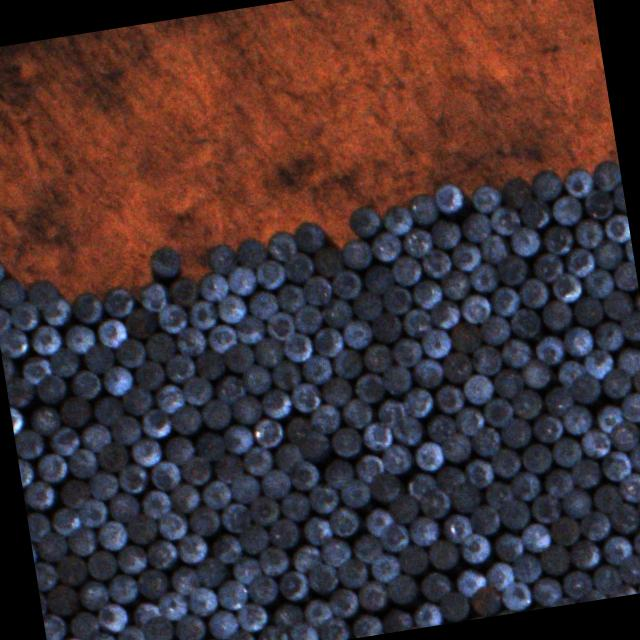tool: (362, 379, 418, 432), (480, 516, 532, 570), (352, 250, 403, 300), (84, 384, 132, 436), (474, 468, 524, 514), (274, 401, 320, 446), (43, 580, 80, 618), (430, 378, 467, 416), (146, 243, 184, 280), (424, 536, 462, 572), (158, 432, 196, 468), (44, 422, 82, 458), (122, 304, 158, 342), (17, 351, 54, 387), (401, 466, 438, 502), (61, 320, 98, 356), (292, 217, 328, 254), (94, 439, 132, 474), (556, 485, 594, 520), (489, 364, 527, 399), (184, 584, 220, 620), (406, 512, 442, 548), (438, 508, 474, 544), (114, 540, 150, 576), (216, 500, 252, 536), (106, 488, 142, 524), (528, 410, 564, 446), (440, 349, 476, 385), (25, 402, 61, 438), (380, 281, 416, 317), (154, 300, 190, 336), (590, 317, 626, 353), (449, 318, 485, 354), (461, 452, 496, 489), (203, 322, 240, 357), (539, 222, 576, 257), (529, 166, 564, 203), (368, 226, 402, 264), (492, 253, 530, 287), (497, 174, 535, 208), (34, 530, 70, 565), (203, 605, 239, 640), (600, 532, 635, 568), (186, 502, 221, 538), (328, 423, 364, 458), (592, 402, 628, 437), (480, 394, 515, 430), (108, 411, 143, 447), (56, 394, 92, 429), (268, 357, 304, 392), (112, 335, 148, 370), (346, 202, 381, 238), (431, 178, 466, 214), (449, 238, 484, 274), (560, 164, 595, 200), (26, 276, 63, 310), (408, 190, 442, 227), (105, 570, 138, 608), (29, 322, 64, 357), (418, 568, 453, 603), (250, 413, 285, 448), (599, 366, 634, 401), (100, 362, 135, 397), (251, 333, 286, 368), (311, 324, 346, 359), (427, 296, 462, 331), (143, 330, 178, 365), (173, 324, 208, 359), (55, 552, 89, 588), (34, 452, 70, 486), (468, 584, 504, 618), (244, 574, 280, 608), (76, 577, 110, 613), (134, 566, 170, 600), (467, 502, 501, 538), (144, 536, 178, 572), (208, 530, 244, 564), (123, 512, 159, 546), (116, 460, 150, 496), (296, 429, 332, 463), (390, 414, 426, 448), (422, 410, 458, 444), (338, 396, 374, 430), (526, 492, 562, 526), (548, 434, 584, 468), (558, 402, 594, 436), (318, 374, 354, 408), (299, 352, 335, 386), (389, 334, 425, 368), (130, 358, 166, 392), (46, 345, 82, 379), (348, 288, 384, 322), (225, 262, 259, 298), (560, 322, 594, 358), (538, 297, 574, 331), (570, 294, 606, 328), (561, 245, 597, 279), (458, 208, 492, 244), (39, 294, 74, 328), (354, 578, 389, 612), (156, 588, 190, 623), (276, 567, 310, 602), (457, 531, 491, 566), (267, 515, 302, 549), (300, 512, 334, 547), (278, 489, 312, 524), (337, 476, 372, 510), (368, 469, 402, 504), (351, 450, 386, 484), (86, 467, 120, 502), (147, 458, 182, 492), (241, 444, 276, 478), (128, 434, 163, 468), (192, 428, 226, 463), (496, 497, 531, 531), (518, 440, 553, 474), (601, 288, 635, 323), (582, 187, 616, 222), (78, 419, 112, 454), (138, 406, 172, 441), (169, 402, 204, 436), (230, 392, 265, 426), (351, 370, 386, 404), (180, 373, 215, 407), (420, 325, 454, 360), (369, 310, 404, 344), (398, 306, 433, 340), (330, 267, 364, 302), (100, 284, 134, 319), (380, 201, 414, 236), (399, 225, 434, 259), (488, 283, 522, 318), (516, 275, 550, 310), (507, 224, 542, 258), (517, 196, 552, 230), (548, 192, 583, 226), (469, 180, 504, 214), (439, 588, 472, 624), (216, 578, 249, 614), (568, 456, 604, 489), (500, 578, 534, 612), (530, 574, 564, 608), (560, 566, 594, 600), (166, 562, 200, 596), (194, 554, 228, 588), (256, 544, 290, 578), (85, 548, 119, 582), (174, 531, 208, 565), (237, 522, 271, 556), (94, 518, 128, 552), (308, 480, 342, 514), (198, 477, 232, 511), (228, 472, 262, 506), (410, 438, 444, 472), (56, 477, 90, 511), (211, 450, 245, 484), (518, 520, 552, 554), (508, 468, 542, 502), (540, 466, 574, 500), (599, 448, 633, 482), (460, 372, 494, 406), (589, 158, 623, 192), (259, 386, 293, 420), (34, 372, 68, 406), (192, 348, 226, 382), (82, 340, 116, 374), (320, 296, 354, 330), (300, 273, 334, 307), (281, 248, 315, 282), (340, 236, 374, 270), (264, 228, 298, 262), (428, 216, 462, 250), (458, 292, 492, 326), (530, 250, 564, 284), (13, 426, 46, 461), (453, 565, 488, 598), (95, 600, 128, 635), (168, 480, 201, 515), (287, 458, 320, 493), (440, 429, 473, 464), (451, 404, 486, 437), (94, 316, 129, 349), (186, 298, 219, 333), (215, 291, 248, 326), (70, 290, 103, 325), (233, 236, 268, 269), (581, 267, 616, 300), (572, 217, 607, 250), (268, 600, 304, 632), (566, 537, 602, 569), (156, 506, 188, 542), (176, 454, 212, 486), (582, 346, 614, 382), (66, 368, 102, 400), (8, 299, 42, 332), (590, 561, 624, 594), (482, 558, 516, 591), (367, 550, 401, 583), (396, 542, 429, 576), (379, 520, 412, 554), (327, 504, 361, 537), (362, 504, 395, 538), (322, 455, 356, 488), (222, 420, 255, 454), (403, 385, 436, 419), (548, 515, 582, 548), (578, 510, 612, 543), (607, 502, 640, 536), (511, 387, 544, 421), (200, 398, 233, 432), (289, 380, 322, 414), (381, 363, 414, 397), (162, 352, 196, 385), (264, 308, 298, 341), (246, 288, 280, 321), (136, 280, 170, 313), (253, 257, 286, 291), (471, 343, 504, 377), (478, 313, 511, 347), (550, 270, 583, 304), (67, 608, 102, 640), (24, 478, 56, 513), (385, 572, 420, 604), (228, 552, 263, 584), (319, 536, 354, 568), (349, 530, 384, 562), (420, 485, 452, 520), (246, 495, 281, 527), (432, 460, 467, 492), (381, 442, 416, 474), (359, 419, 394, 451), (489, 445, 524, 477), (467, 426, 502, 458), (498, 418, 533, 450), (540, 383, 575, 415), (570, 371, 602, 406), (409, 278, 444, 310), (206, 240, 238, 275), (532, 332, 564, 367), (477, 232, 512, 264), (380, 603, 416, 634), (511, 551, 544, 584), (607, 419, 640, 452), (361, 341, 394, 374), (438, 268, 471, 301), (5, 374, 37, 408), (538, 544, 572, 576), (336, 556, 368, 590), (388, 492, 422, 524), (450, 480, 482, 514), (47, 504, 81, 536), (66, 446, 98, 480), (580, 426, 612, 460), (519, 358, 553, 390), (590, 238, 624, 270), (410, 358, 444, 390), (120, 384, 154, 416), (240, 362, 272, 396), (222, 341, 256, 373), (282, 330, 316, 362), (342, 316, 374, 350), (234, 312, 266, 346), (292, 302, 324, 336), (274, 280, 306, 314), (418, 246, 452, 278), (166, 274, 198, 308), (196, 270, 230, 302), (311, 244, 345, 276), (499, 336, 533, 368), (487, 204, 521, 236), (236, 600, 268, 633), (306, 562, 339, 594), (65, 525, 98, 557), (78, 496, 110, 529), (260, 466, 292, 499), (309, 402, 342, 434), (590, 482, 622, 515), (151, 382, 184, 414), (332, 347, 364, 380), (391, 254, 423, 287), (508, 306, 540, 339), (466, 262, 499, 294), (0, 325, 31, 359), (602, 211, 632, 246), (348, 610, 384, 639), (302, 594, 334, 626), (328, 584, 360, 616), (411, 598, 444, 629), (289, 541, 322, 572), (138, 488, 172, 518), (610, 260, 640, 294), (0, 274, 29, 309), (171, 611, 206, 640), (128, 599, 160, 630), (554, 356, 586, 387), (272, 440, 304, 470), (612, 342, 640, 376), (316, 613, 351, 640), (214, 374, 244, 404), (140, 614, 174, 640), (616, 308, 640, 343), (617, 470, 640, 505), (34, 560, 59, 592), (617, 552, 640, 586), (42, 610, 68, 640), (27, 511, 52, 542), (617, 391, 640, 424), (286, 619, 320, 640), (255, 622, 289, 640), (18, 456, 36, 488), (113, 623, 146, 640), (10, 404, 25, 434), (626, 441, 640, 473), (0, 305, 12, 335), (225, 630, 257, 640), (84, 631, 118, 640), (631, 526, 640, 558), (631, 364, 640, 396), (0, 252, 7, 284)
